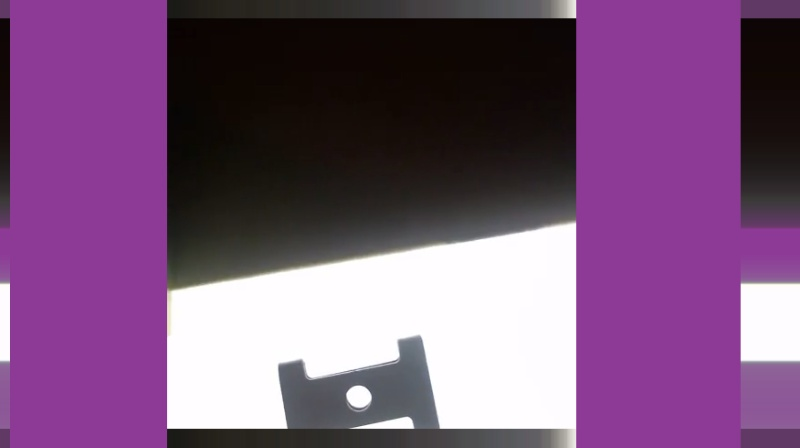O002: (273, 334, 442, 447)
